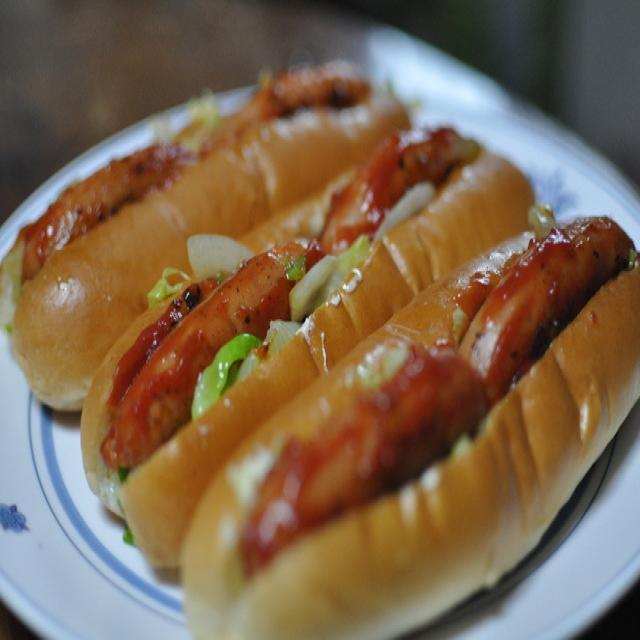Hot Dog: (180, 210, 640, 640)
